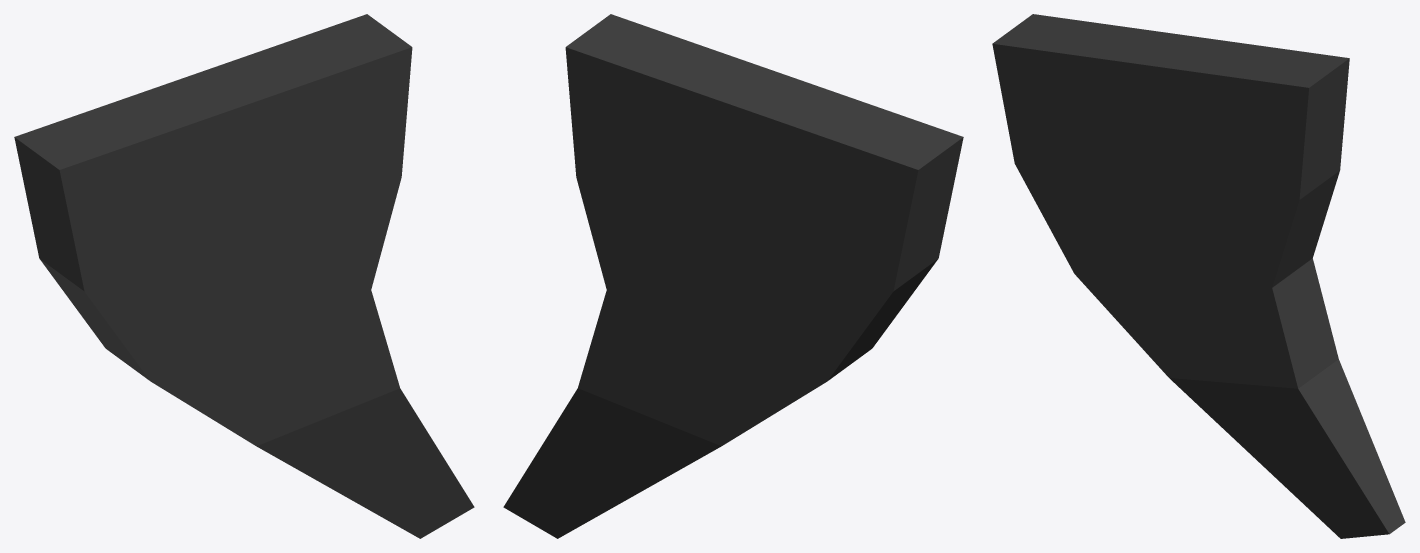
The model's file is Pistol4_02_3.fbx.
3 renders of one model, left to right at view 1: azimuth 30°, elevation 25°; view 2: azimuth 150°, elevation 25°; view 3: azimuth 330°, elevation 25°, orthographic. The views are drawn at different scales.
Parts seen in each view (by area): view 1: Pistol4_02_3; view 2: Pistol4_02_3; view 3: Pistol4_02_3.
Boxes of the visible parts, box(x1,y1,x2,y2) form: Pistol4_02_3: box(14, 14, 474, 538); Pistol4_02_3: box(503, 14, 963, 538); Pistol4_02_3: box(992, 14, 1405, 538).
Size of the model in its own units: 0.0282 by 0.0319 by 0.00516.
